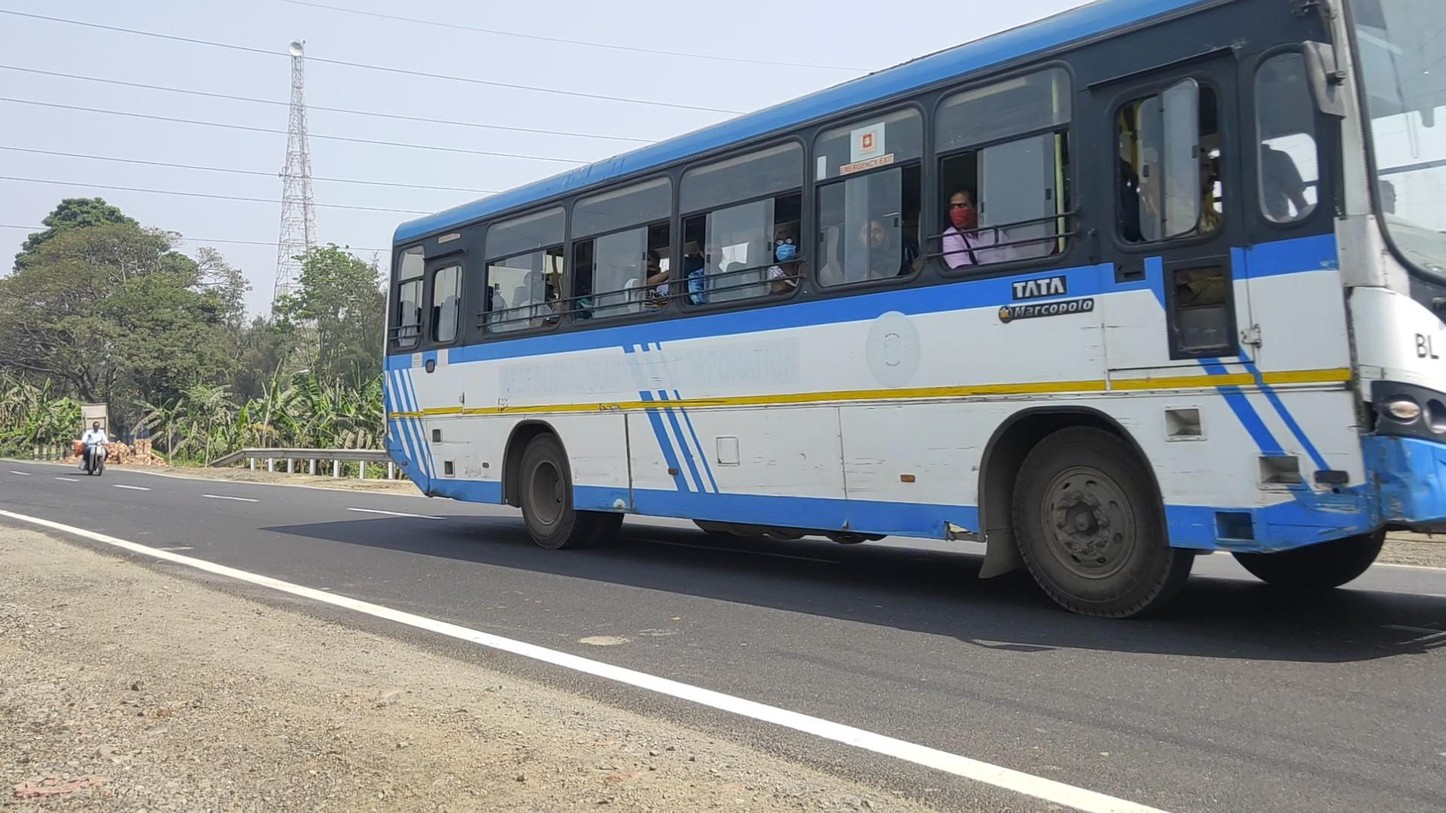Bus: (380, 1, 1446, 623)
bike: (74, 422, 111, 476)
